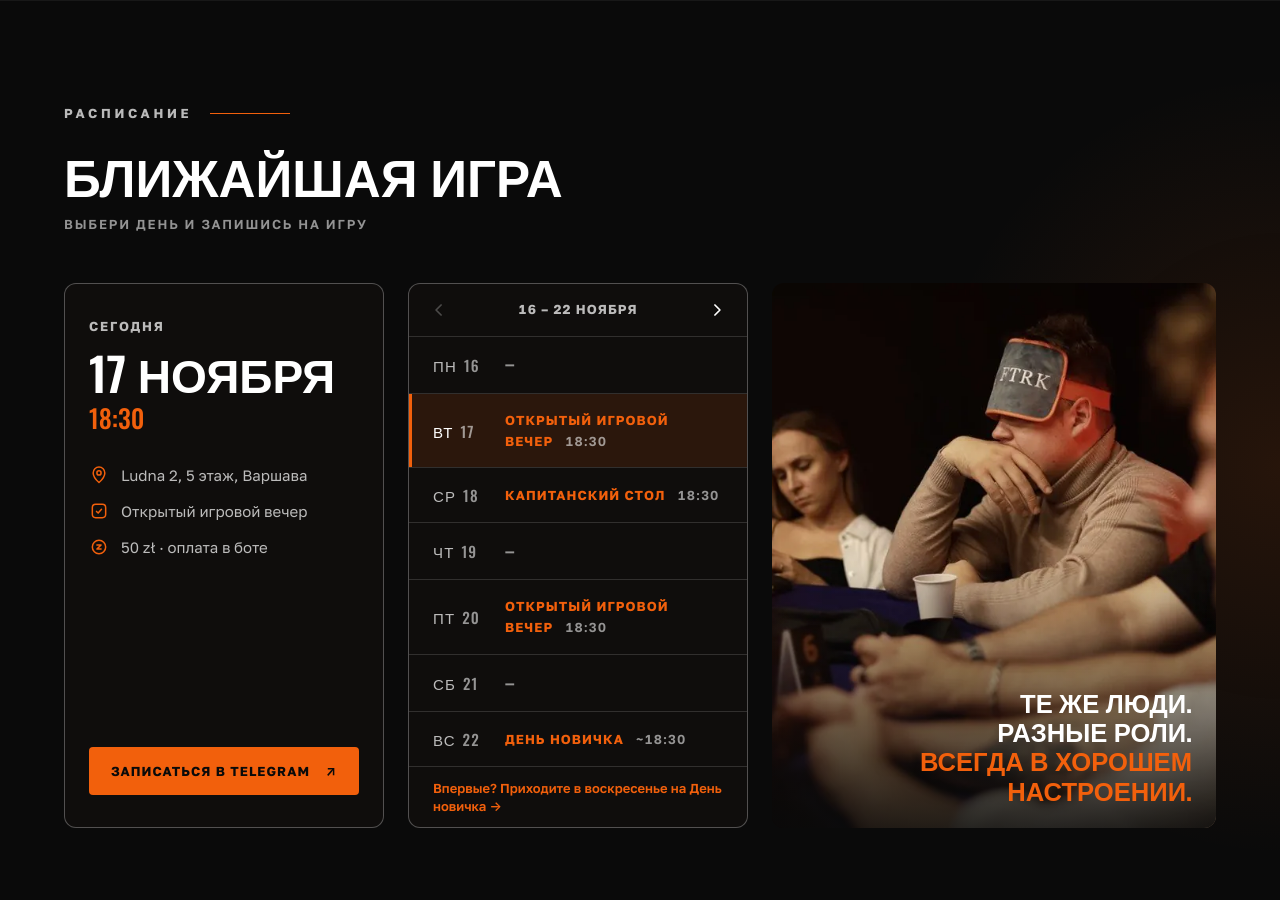
Test case: schedule card › on the invite-only captains' table, offers the nearest open evening instead of sign-up
What coordinates should you click on to do the following:
click the button "Ср 18 Капитанский стол18:30"
I would click on:
 (578, 495)
Its box is [409,468,747,522].
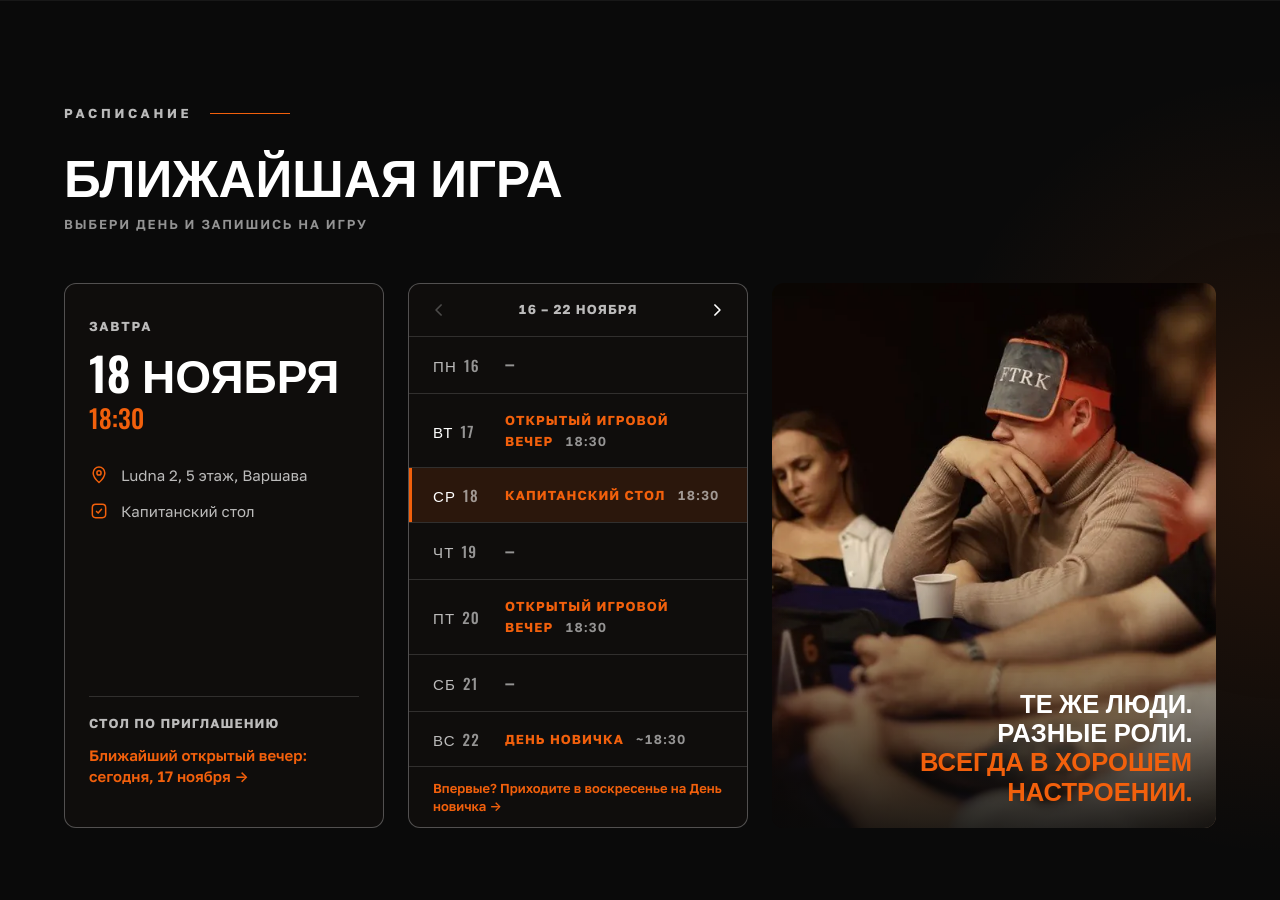
Check: the element named "Выбранная игра" shows "Стол по приглашению", box [89,714,279,730]
Check: the link "Записаться в Telegram ↗" is gone
Check: the button "Ближайший открытый вечер: сегодня, 17 ноября →" is shown
What coordinates should you click on to do the following:
click the button "Ближайший открытый вечер: сегодня, 17 ноября →"
I would click on:
 (224, 766)
Its box is [89,737,359,795].
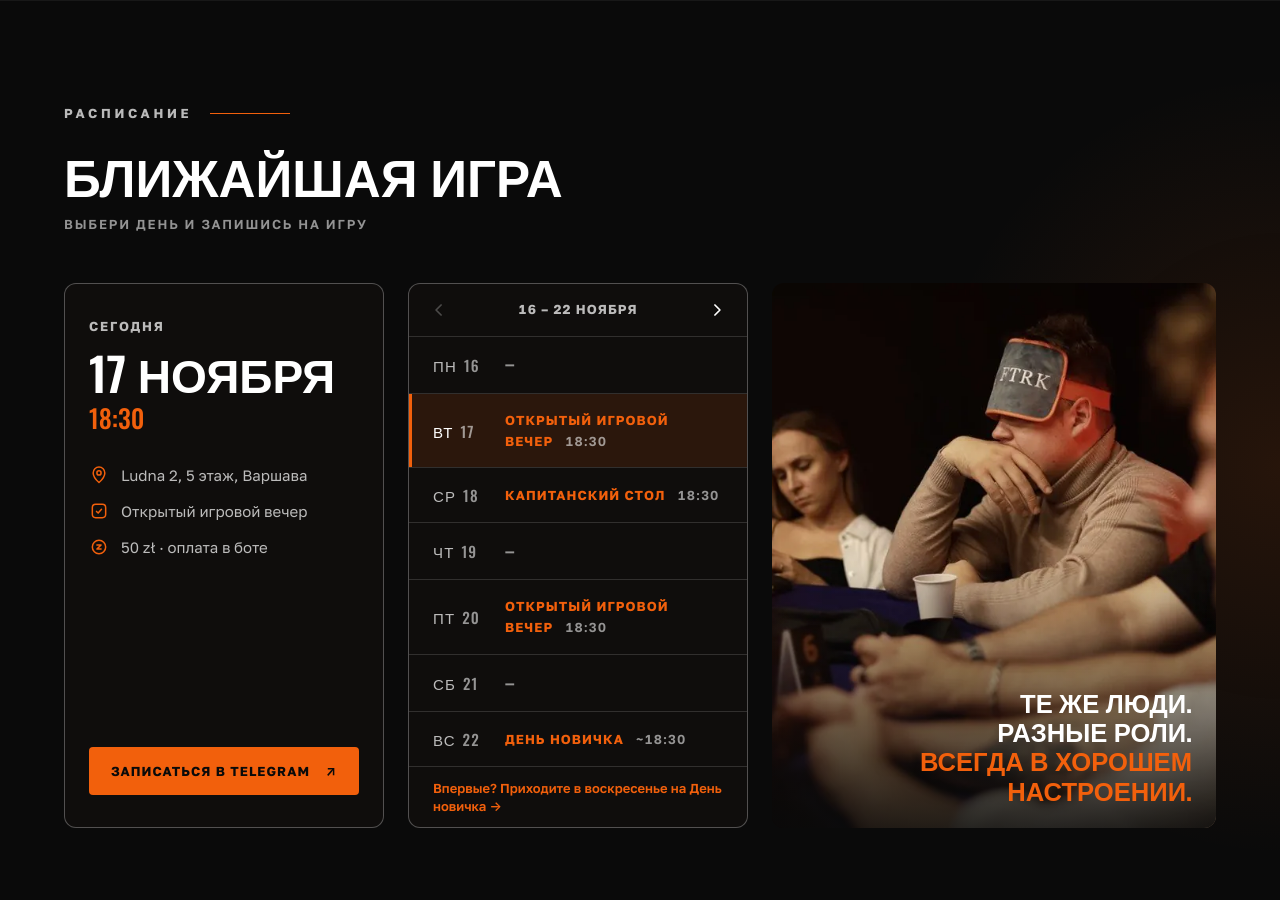
Check: the text "17 ноября" is shown, box [89,348,359,395]
Check: the link "Записаться в Telegram ↗" is shown, box [89,747,359,795]
